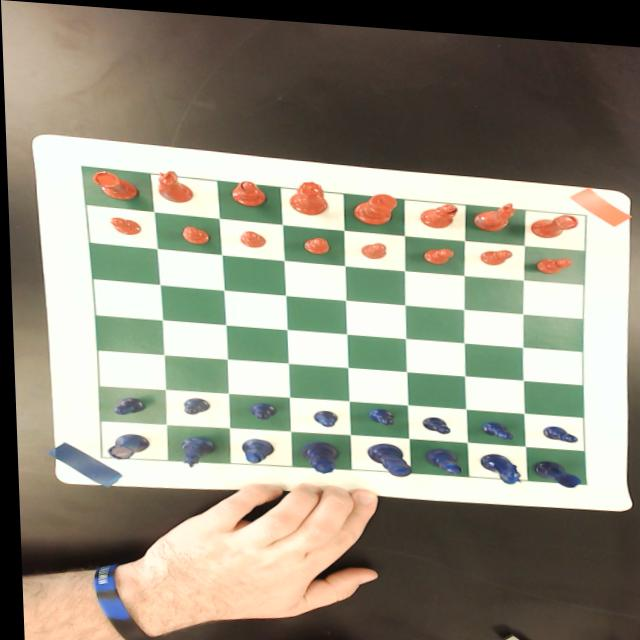B: (419, 441, 459, 467), (237, 435, 269, 460)
K: (362, 437, 408, 472)
N: (475, 445, 520, 478), (175, 432, 212, 467)
P: (476, 413, 510, 433), (109, 394, 143, 414), (538, 417, 574, 435), (178, 394, 208, 413), (417, 410, 447, 428), (246, 398, 273, 417), (364, 403, 392, 420), (309, 405, 335, 423)
Q: (295, 435, 338, 470)
R: (529, 452, 578, 480), (104, 431, 147, 461)
b: (416, 195, 457, 223), (227, 176, 266, 205)
k: (350, 186, 397, 221)
n: (468, 193, 515, 226), (151, 167, 192, 201)
p: (533, 248, 571, 268), (419, 239, 454, 259), (106, 214, 141, 234), (478, 240, 512, 260), (177, 222, 209, 242), (236, 226, 264, 245), (357, 236, 386, 254), (301, 232, 330, 250)
q: (286, 175, 327, 212)
r: (89, 168, 138, 199), (529, 203, 578, 232)
